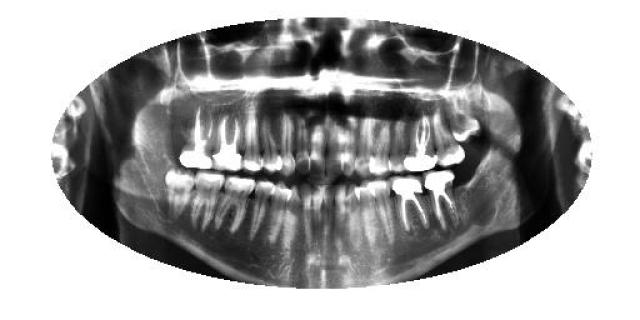Implant: (390, 175, 430, 233), (179, 106, 215, 170), (424, 168, 458, 232), (403, 110, 438, 172), (214, 115, 242, 173)
